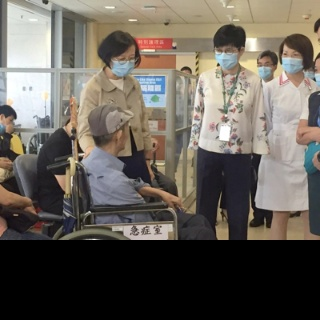with_mask: (110, 52, 136, 79), (281, 49, 304, 75), (213, 47, 239, 68), (257, 60, 273, 80), (301, 66, 315, 81)
